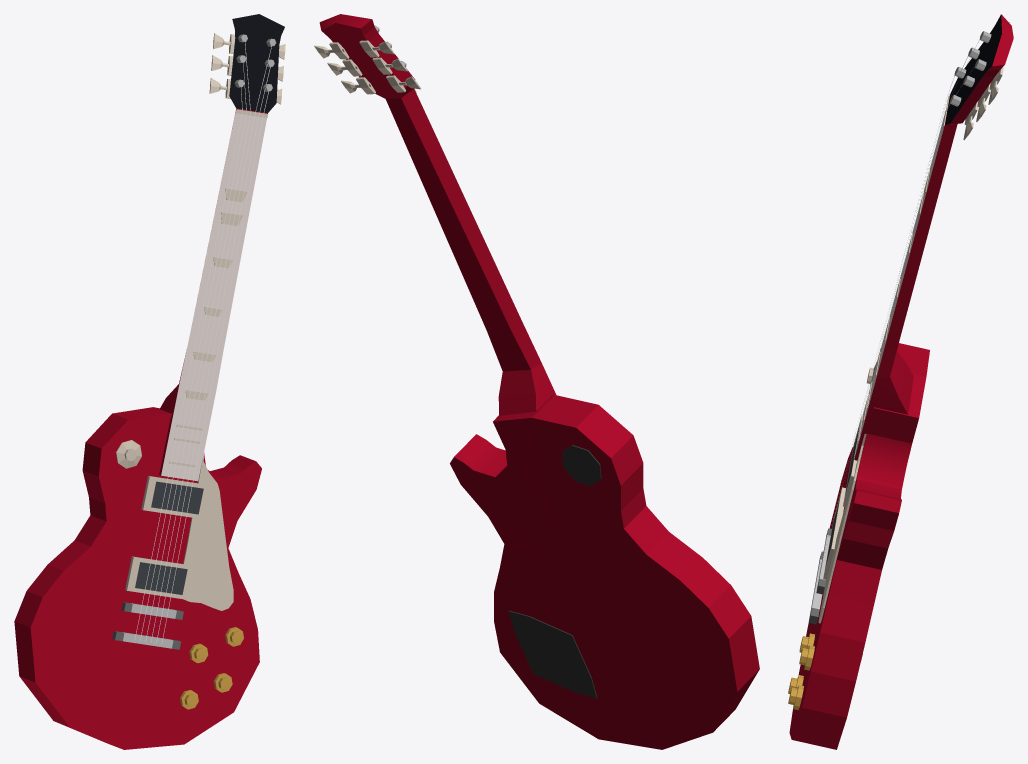
File: maya2sketchfab.fbx
3 renders of one model, left to right at view 1: azimuth 30°, elevation 25°; view 2: azimuth 150°, elevation 25°; view 3: azimuth 270°, elevation 25°, orthographic. The views are drawn at different scales.
Visible parts, largest first — view 1: polySurface5, polySurface8, polySurface7, polySurface6, pPlane1, pCube2, pCube3, pCube14, pCube15, pCylinder5; view 2: polySurface5, polySurface7, pCylinder7, pCylinder6; view 3: polySurface5, polySurface7, polySurface8, polySurface6, pCube3, pCube14, pCube2.
Boxes of the visible parts, x1,y1,x2,y2 form: polySurface5: [14, 407, 261, 749]; polySurface8: [161, 113, 266, 481]; polySurface7: [159, 14, 284, 475]; polySurface6: [183, 452, 233, 610]; pPlane1: [134, 42, 271, 643]; pCube2: [141, 476, 211, 519]; pCube3: [125, 556, 195, 599]; pCube14: [112, 631, 180, 649]; pCube15: [121, 602, 183, 619]; pCylinder5: [116, 440, 141, 468]; polySurface5: [450, 395, 759, 749]; polySurface7: [319, 14, 556, 415]; pCylinder7: [508, 610, 597, 698]; pCylinder6: [562, 445, 601, 486]; polySurface5: [789, 343, 929, 749]; polySurface7: [854, 14, 1013, 460]; polySurface8: [854, 110, 945, 457]; polySurface6: [818, 434, 866, 623]; pCube3: [823, 487, 845, 579]; pCube14: [808, 551, 823, 624]; pCube2: [843, 415, 862, 506].
Bounding box in the file's own units: 15.6 × 30 × 7.58.
